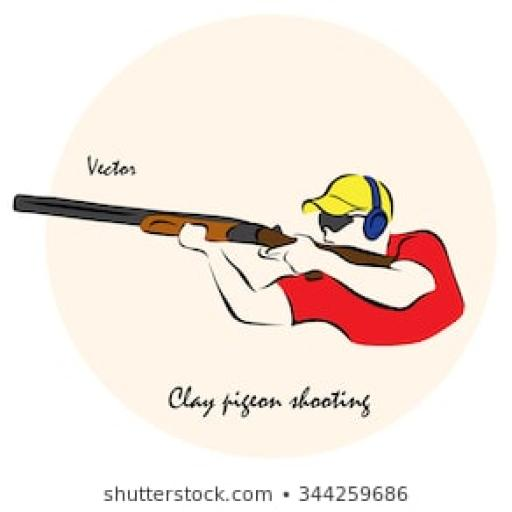shooting: (176, 170, 466, 349)
